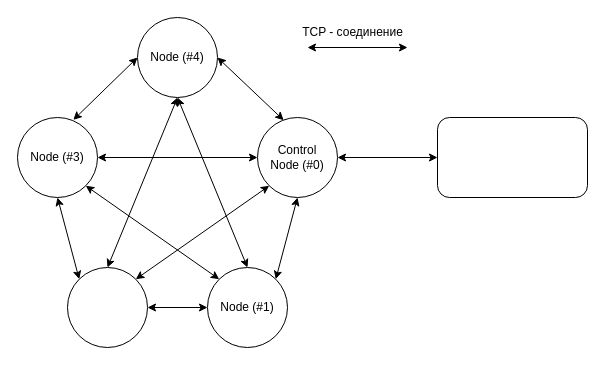
This 605x365 diagram has some shape labels left out. Here are the shapes that lost their labels. From the top down, the box of each, then its label:
(436, 116, 588, 198): TaskManager
(66, 266, 148, 348): Node (#2)
